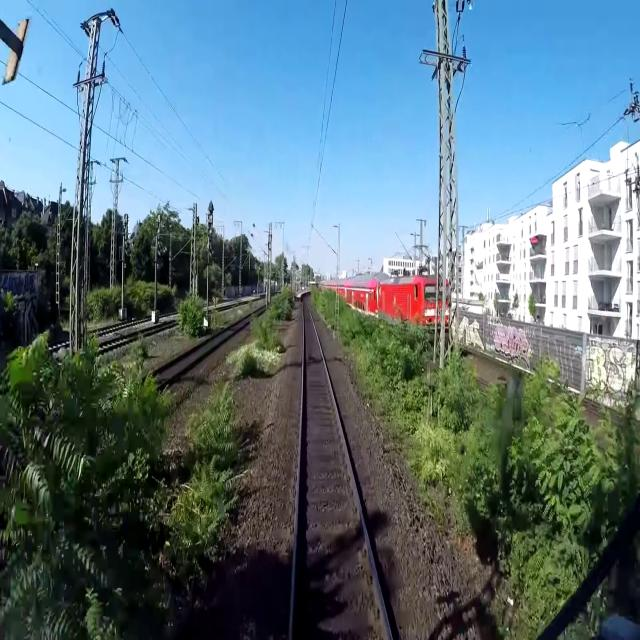rail-track: (292, 296, 388, 639), (155, 313, 256, 377), (131, 379, 143, 388)
